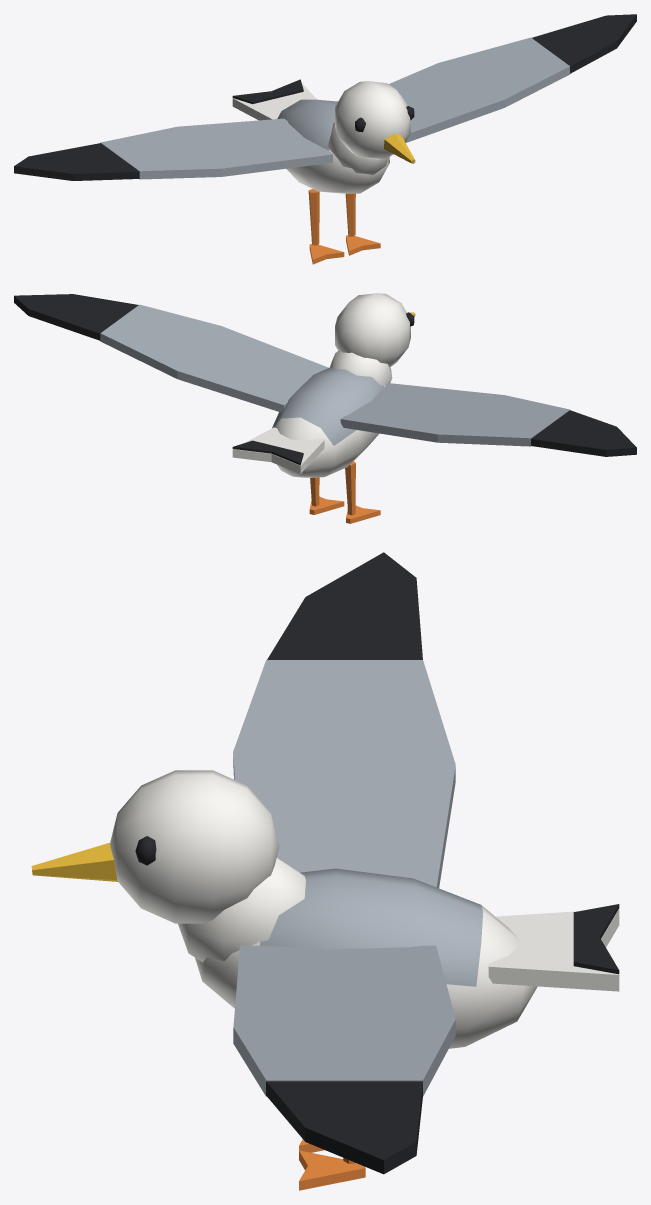
File: gull.glb
3 renders of one model, top to bottom at view 1: azimuth 30°, elevation 25°; view 2: azimuth 150°, elevation 25°; view 3: azimuth 270°, elevation 25°, orthographic. The views are drawn at different scales.
Visible parts, largest first — view 1: Gull_WingR, Gull_WingL, Gull_Head, Gull_Body, Gull_Legs, Gull_Tail; view 2: Gull_WingL, Gull_WingR, Gull_Body, Gull_Head, Gull_Tail, Gull_Legs; view 3: Gull_WingR, Gull_WingL, Gull_Body, Gull_Head, Gull_Tail, Gull_Legs.
Boxes of the visible parts, x1,y1,x2,y2 form: Gull_WingR: [14, 118, 332, 180]; Gull_WingL: [389, 14, 636, 142]; Gull_Head: [335, 81, 415, 163]; Gull_Body: [277, 99, 389, 193]; Gull_Legs: [308, 189, 380, 264]; Gull_Tail: [232, 79, 316, 120]; Gull_WingL: [14, 294, 328, 412]; Gull_WingR: [340, 383, 636, 456]; Gull_Body: [272, 350, 392, 477]; Gull_Head: [335, 293, 415, 367]; Gull_Tail: [232, 427, 324, 473]; Gull_Legs: [309, 461, 380, 523]; Gull_WingR: [233, 552, 455, 888]; Gull_WingL: [233, 945, 455, 1174]; Gull_Body: [178, 858, 537, 1048]; Gull_Head: [31, 770, 279, 923]; Gull_Tail: [488, 904, 619, 991]; Gull_Legs: [299, 1139, 365, 1190].
Bounding box in the file's own units: 1.1 × 0.3224 × 0.4493.
